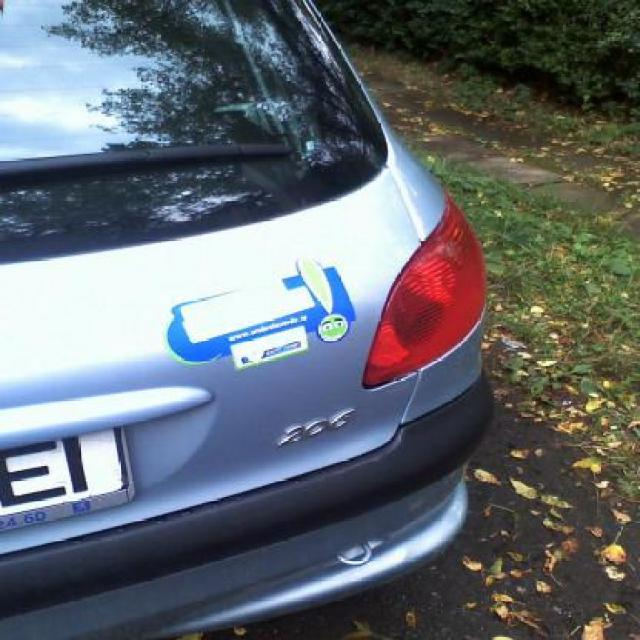License-Plates: (0, 404, 138, 527)
